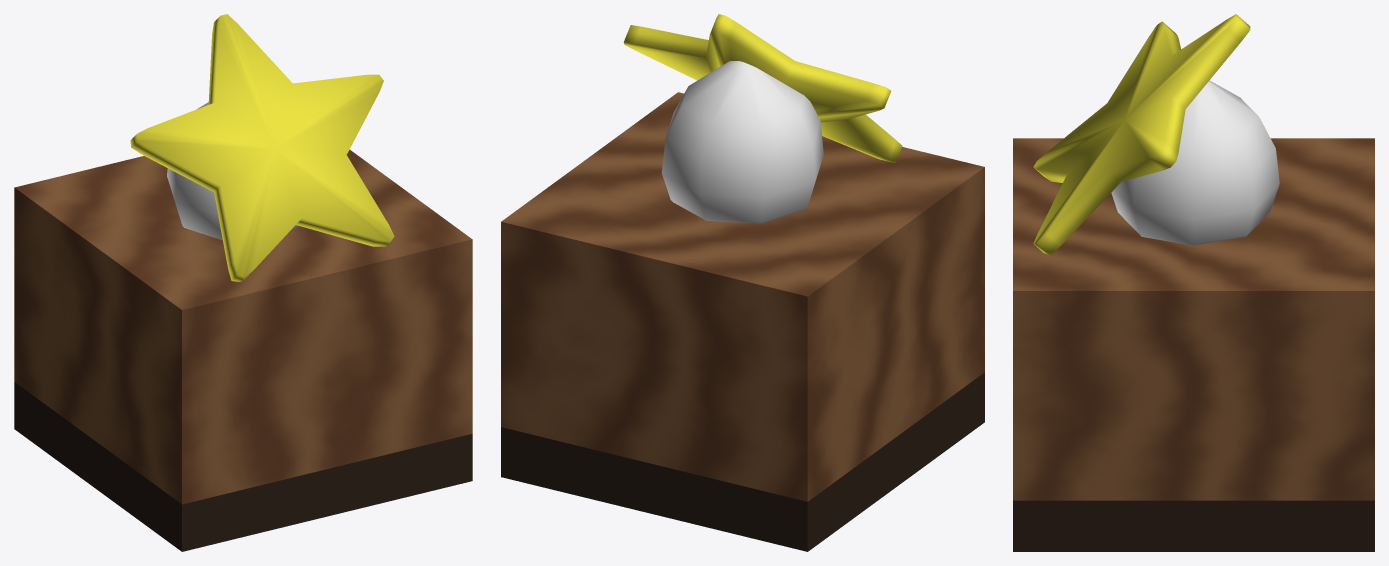
File: cake_brown_front_1.fbx
3 renders of one model, left to right at view 1: azimuth 30°, elevation 25°; view 2: azimuth 150°, elevation 25°; view 3: azimuth 270°, elevation 25°, orthographic. The views are drawn at different scales.
Parts seen in each view (by area): view 1: 立方体.033, 立方体.040, 立方体.041; view 2: 立方体.033, 立方体.041, 立方体.040; view 3: 立方体.033, 立方体.040, 立方体.041.
Boxes of the visible parts, bbox=[...] form: 立方体.033: bbox=[14, 149, 472, 551]; 立方体.040: bbox=[130, 14, 394, 281]; 立方体.041: bbox=[167, 102, 299, 239]; 立方体.033: bbox=[501, 92, 984, 551]; 立方体.041: bbox=[661, 61, 823, 223]; 立方体.040: bbox=[623, 14, 902, 163]; 立方体.033: bbox=[1013, 138, 1374, 551]; 立方体.040: bbox=[1033, 14, 1250, 255]; 立方体.041: bbox=[1111, 80, 1279, 245].
Bounding box in the file's own units: 14.6 × 20.47 × 14.6.
